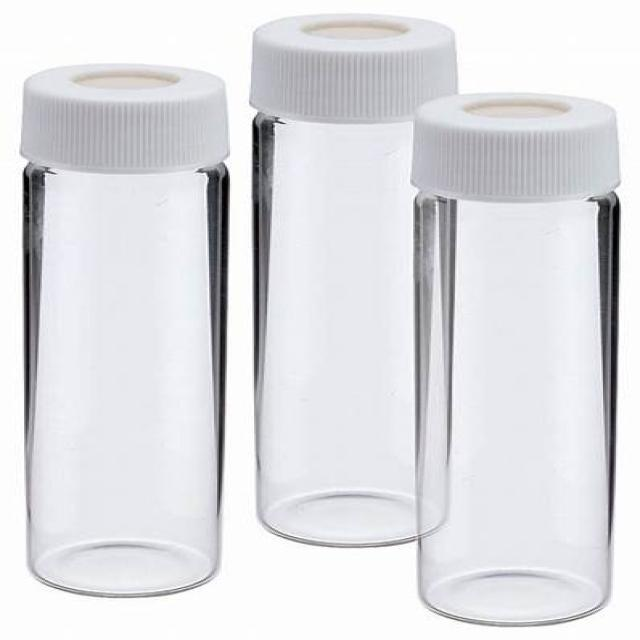vial: (395, 96, 639, 174), (18, 56, 205, 134), (246, 14, 459, 79)
